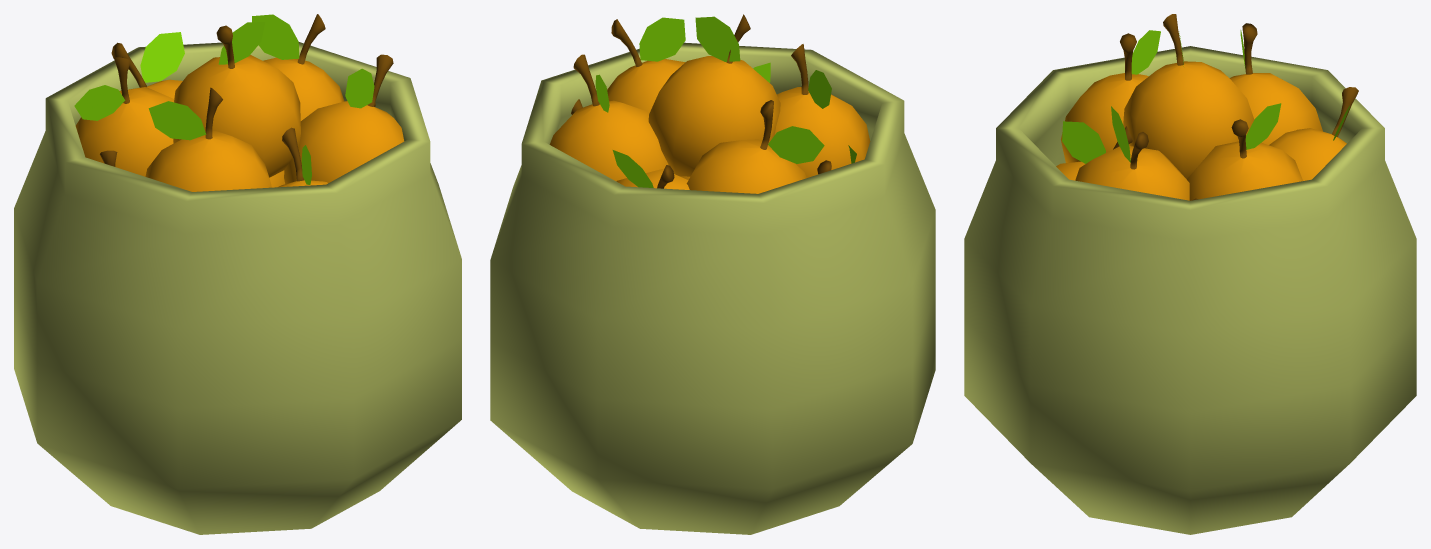
The model's file is Orange_Barrel 1.fbx.
The picture shows the model from 3 angles, left to right: view 1: azimuth 30°, elevation 25°; view 2: azimuth 150°, elevation 25°; view 3: azimuth 270°, elevation 25°; orthographic projection. The views are drawn at different scales.
Visible parts, largest first — view 1: Jar, Orange (×7), leaf1 (×4), leaf2 (×2); view 2: Jar, Orange (×6), leaf2 (×3), leaf1 (×2); view 3: Jar, Orange (×6), leaf2 (×2), leaf1.
Part boxes in pixels (x1=…): Jar: x1=14, y1=42, x2=461, y2=534; Orange (×7): x1=75, y1=14, x2=404, y2=191; leaf1 (×4): x1=75, y1=14, x2=374, y2=140; leaf2 (×2): x1=140, y1=22, x2=265, y2=82; Jar: x1=490, y1=42, x2=935, y2=534; Orange (×6): x1=549, y1=14, x2=870, y2=193; leaf2 (×3): x1=639, y1=17, x2=831, y2=163; leaf1 (×2): x1=612, y1=17, x2=740, y2=187; Jar: x1=964, y1=46, x2=1416, y2=534; Orange (×6): x1=1061, y1=14, x2=1358, y2=200; leaf2 (×2): x1=1131, y1=30, x2=1281, y2=149; leaf1: x1=1062, y1=121, x2=1105, y2=163.
Bounding box in the file's own units: 12.01 × 13.19 × 12.01.
